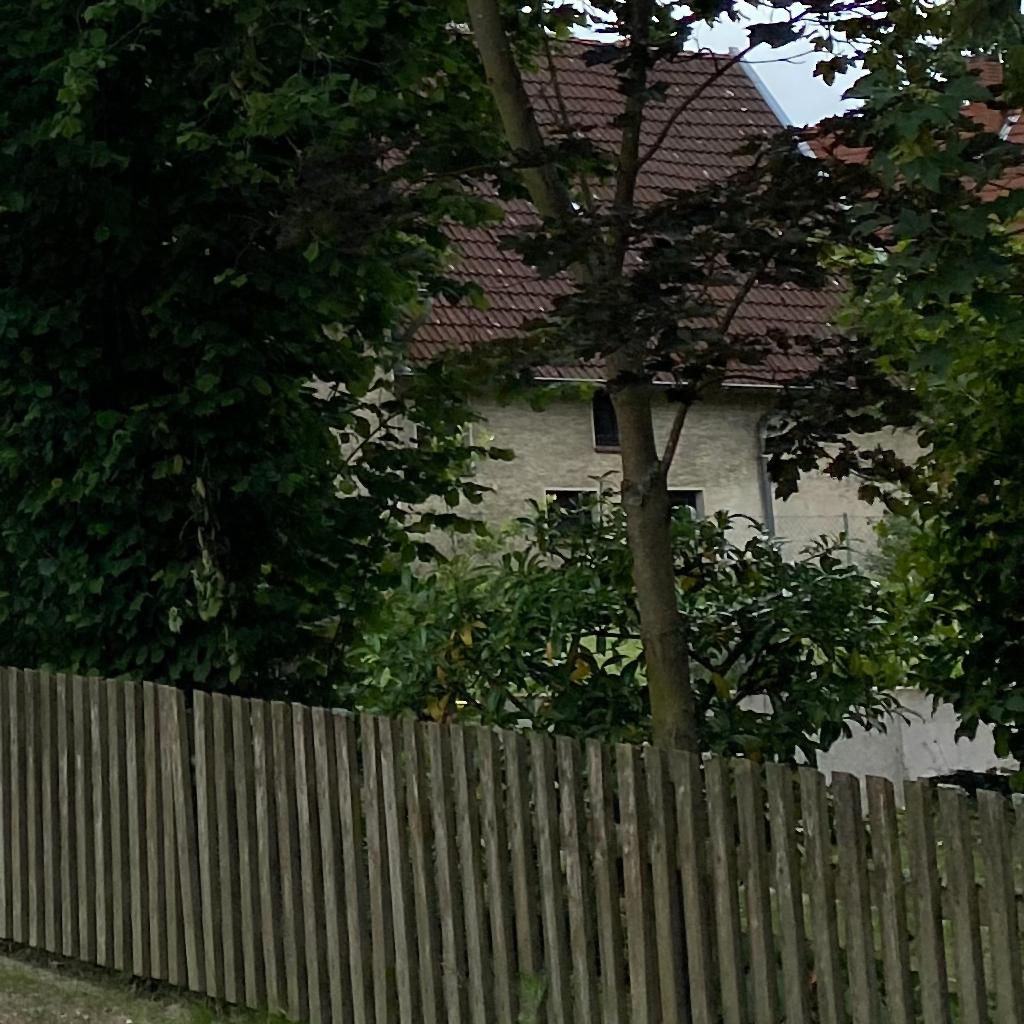tree: (464, 1, 910, 762)
